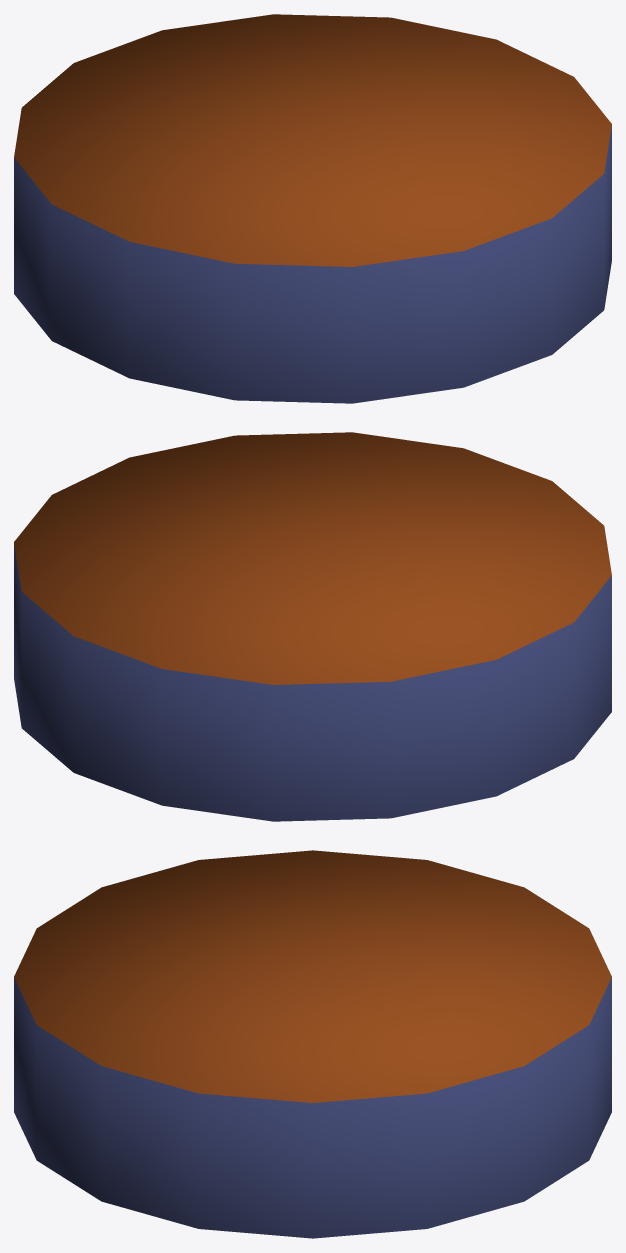
The model's file is SM_TableRonde.fbx.
The picture shows the model from 3 angles, top to bottom: view 1: azimuth 30°, elevation 25°; view 2: azimuth 150°, elevation 25°; view 3: azimuth 270°, elevation 25°; orthographic projection.
Parts seen in each view (by area): view 1: TableRonde; view 2: TableRonde; view 3: TableRonde.
Part boxes in pixels (bbox=[...]): TableRonde: bbox=[14, 14, 611, 403]; TableRonde: bbox=[14, 432, 611, 821]; TableRonde: bbox=[14, 850, 611, 1238].
Size of the model in its own units: 400 by 400 by 100.
1 material, 1 textured.
